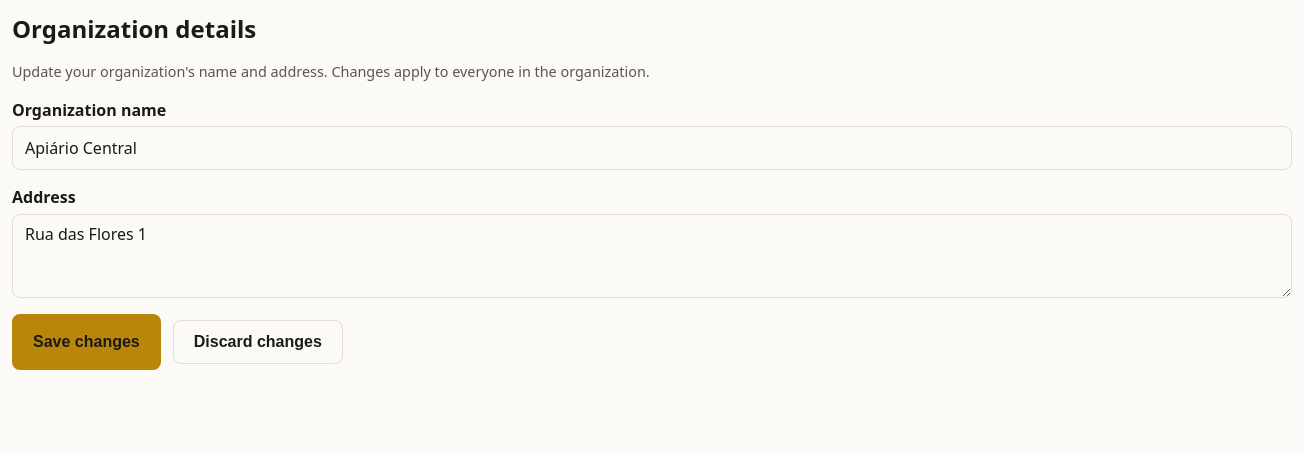
Test: OrganizationSettings › saves an edit via PATCH with the ETag as If-Match and confirms success (happy path)
Replace the text in the field labelled "Organization name" with "Apiário Norte" at x=652, y=148, box [12,126,1292,170]
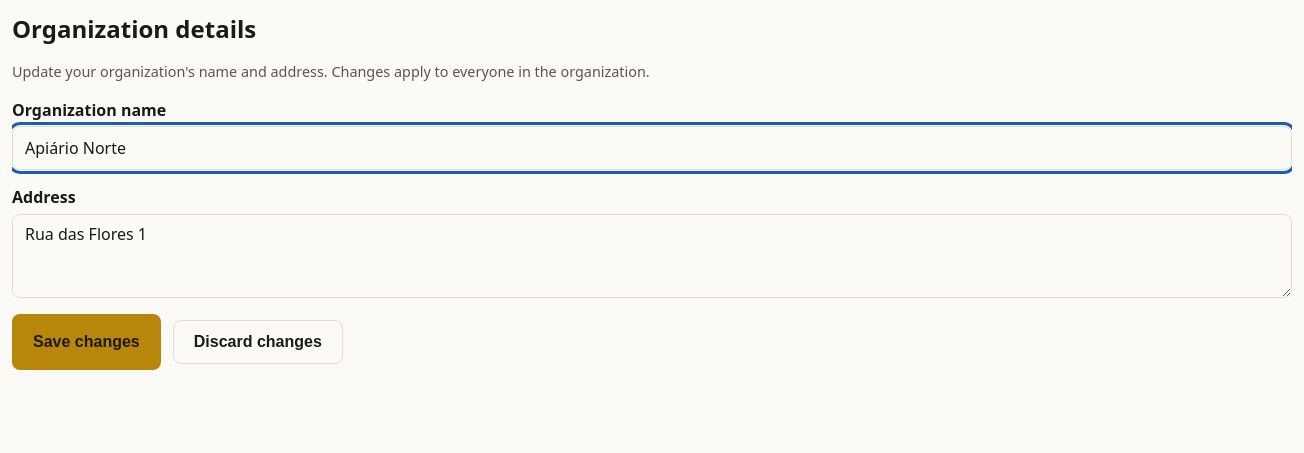
Click the button "Save changes" at x=86, y=342, box [12,314,161,370]
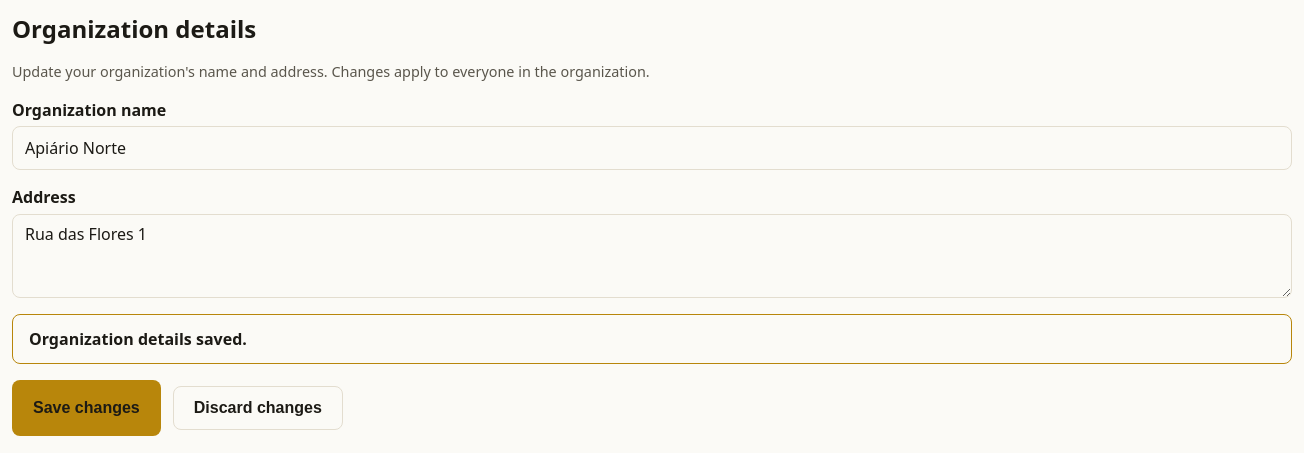
Check: the message shows "saved", box [29,328,247,350]
